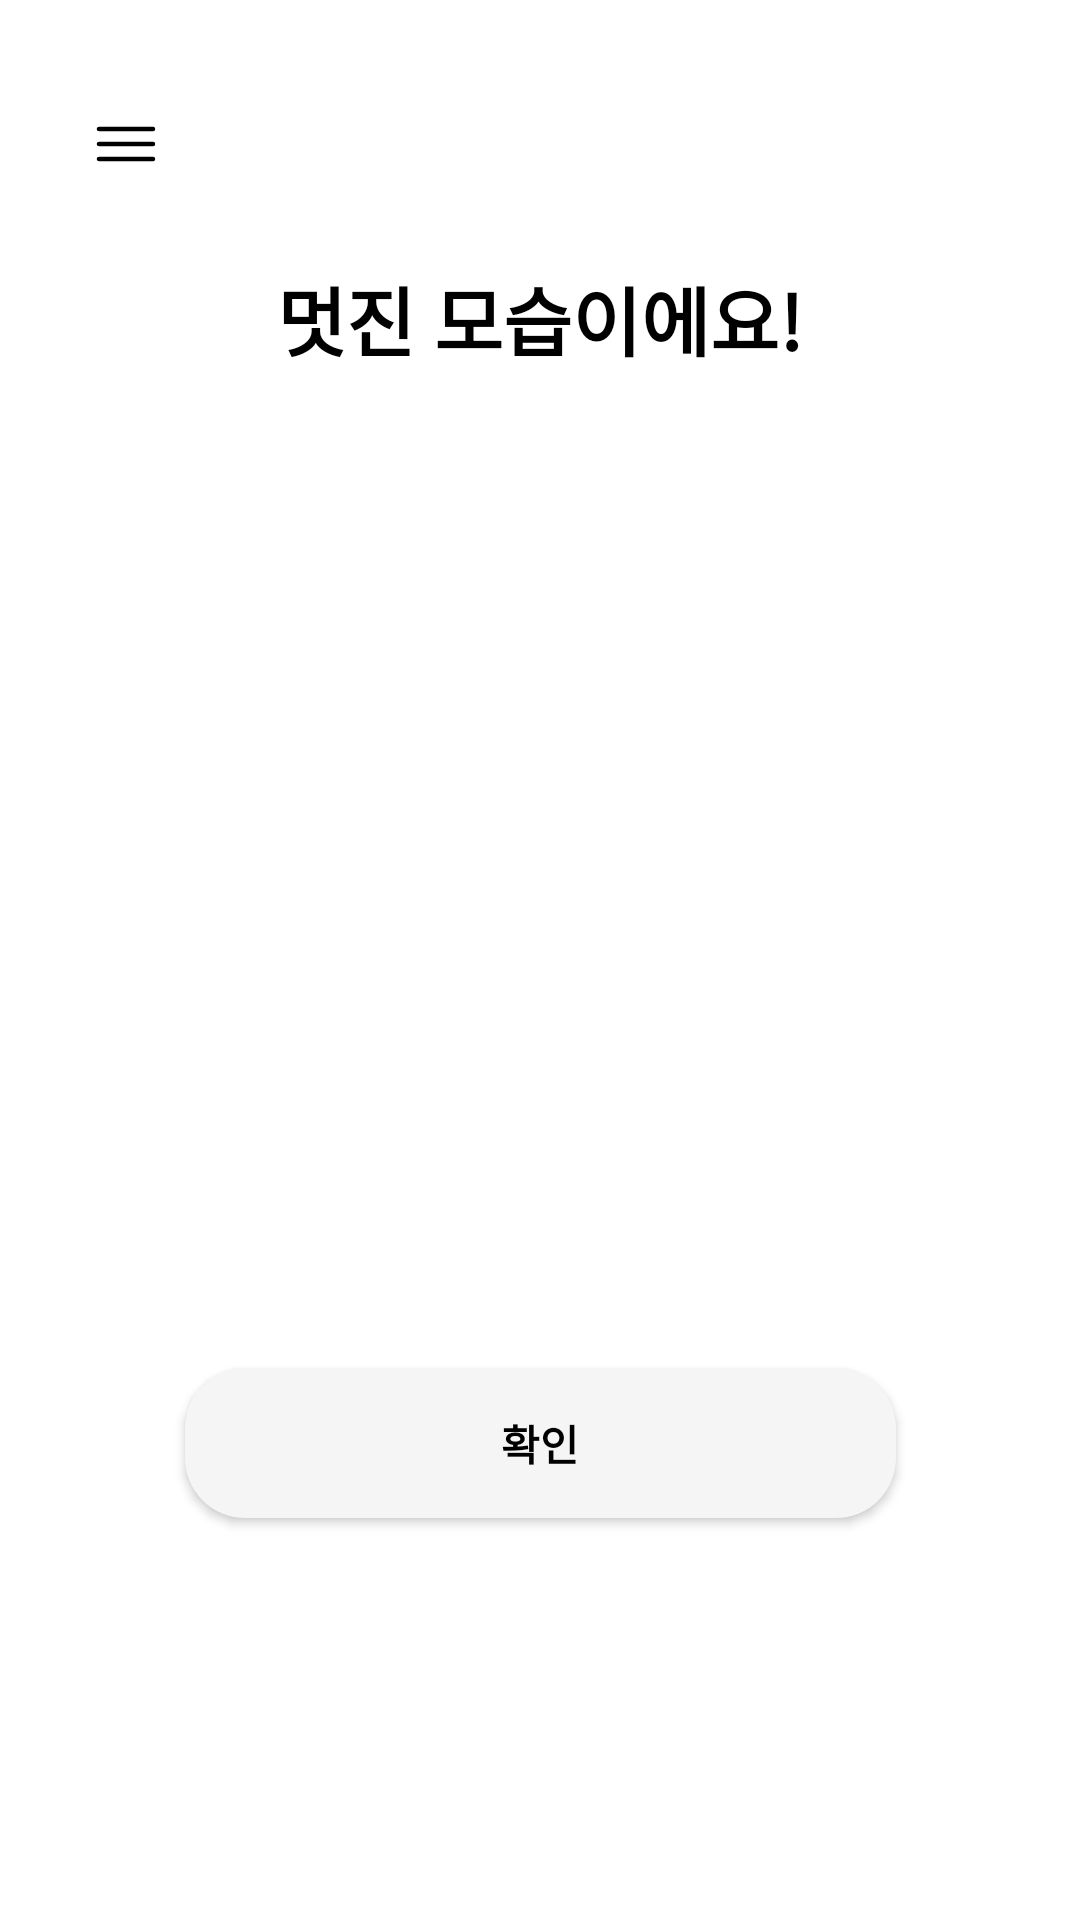

Icons on this 1080 × 1920 Android screen, each with its box as Rect(x1, y1, x2, y2):
hamburger menu: Rect(96, 126, 155, 162)
